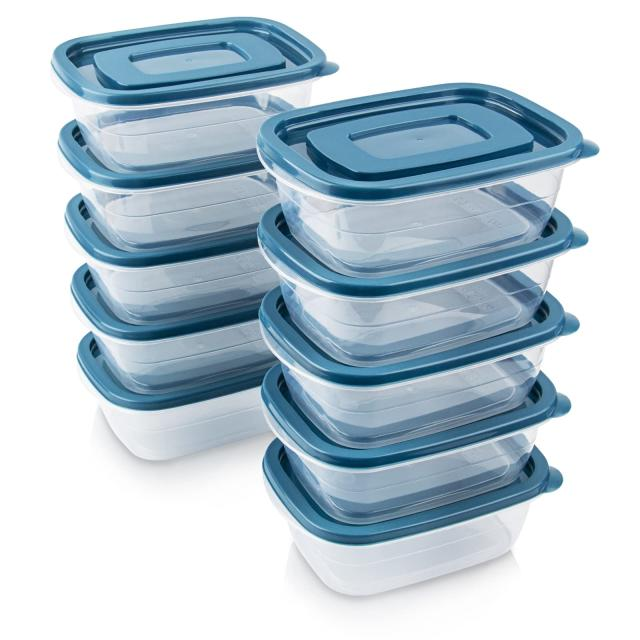plastic_box: (46, 3, 390, 525)
